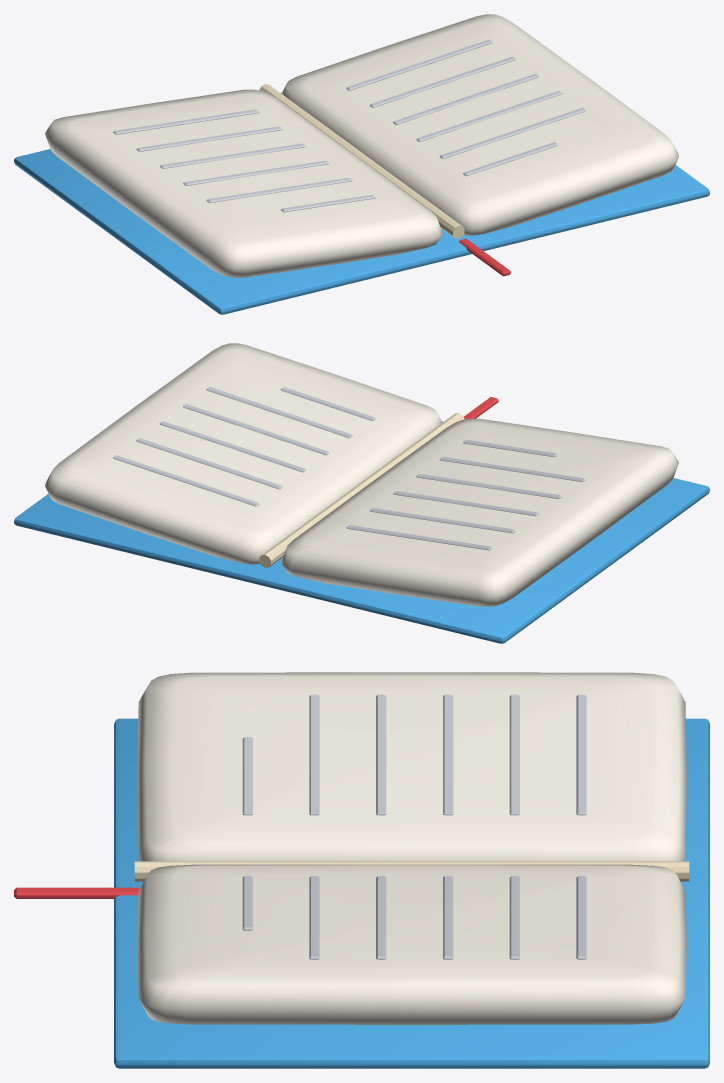
The model's file is livro_aberto.glb.
3 renders of one model, top to bottom at view 1: azimuth 30°, elevation 25°; view 2: azimuth 150°, elevation 25°; view 3: azimuth 270°, elevation 25°, orthographic. The views are drawn at different scales.
Parts seen in each view (by area): view 1: livro_aberto; view 2: livro_aberto; view 3: livro_aberto.
Part boxes in pixels (<box>): livro_aberto: <box>14,14,709,314</box>; livro_aberto: <box>14,343,709,643</box>; livro_aberto: <box>14,672,709,1068</box>.
Bounding box in the file's own units: 0.316 × 0.0317 × 0.271.
1 material, 1 textured.
